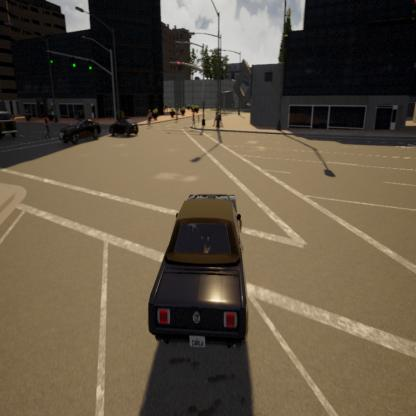Cars: (139, 185, 251, 357), (58, 114, 106, 150), (107, 115, 142, 142), (0, 104, 19, 145)
Pedestrian: (41, 110, 52, 144), (188, 106, 198, 130), (214, 102, 222, 130), (147, 104, 153, 130)
